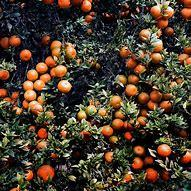orange: (116, 45, 145, 75), (145, 91, 178, 116), (22, 72, 51, 98), (132, 159, 161, 179), (113, 90, 129, 124), (43, 37, 66, 59), (0, 67, 13, 98), (136, 26, 156, 46), (148, 35, 166, 57), (37, 127, 50, 157), (22, 96, 45, 112), (39, 165, 60, 182), (35, 60, 55, 77), (152, 5, 176, 19), (50, 63, 66, 83), (100, 122, 120, 138), (153, 138, 171, 155), (127, 83, 138, 102), (130, 142, 145, 154), (181, 0, 191, 16), (17, 48, 31, 59), (9, 34, 19, 47), (54, 2, 69, 10), (81, 0, 90, 11)
